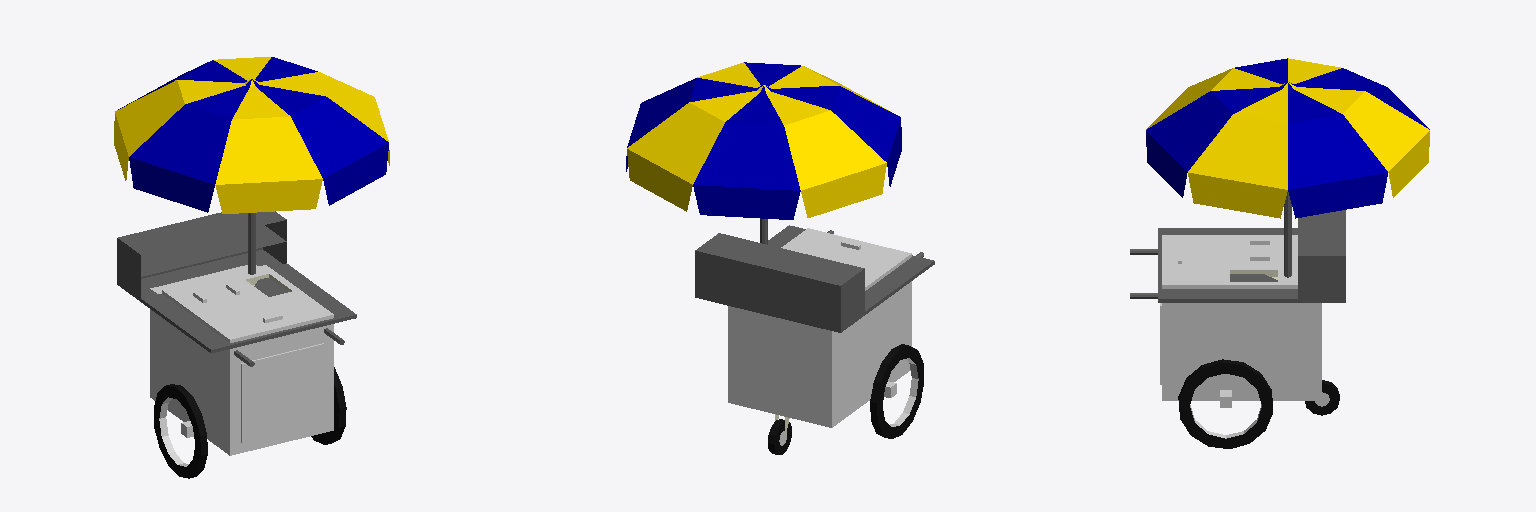
File: Kiosk_Food_Cart.obj
3 renders of one model, left to right at view 1: azimuth 30°, elevation 25°; view 2: azimuth 150°, elevation 25°; view 3: azimuth 270°, elevation 25°, orthographic.
Visible parts, largest first — view 1: Mesh16 Model, Mesh3 Group4 Group2 Model, Mesh8 wheel1 Model, Mesh15 wheel2 Model; view 2: Mesh3 Group4 Group2 Model, Mesh16 Model, Mesh8 wheel1 Model, Mesh1 Group1 Model; view 3: Mesh3 Group4 Group2 Model, Mesh16 Model, Mesh15 wheel2 Model, Mesh1 Group1 Model, Mesh2 Group3 Group2 Model.
Boxes of the visible parts, box(x1,y1,x2,y2) form: Mesh16 Model: box(117, 211, 356, 455); Mesh3 Group4 Group2 Model: box(114, 57, 389, 213); Mesh8 wheel1 Model: box(154, 384, 207, 478); Mesh15 wheel2 Model: box(311, 367, 346, 444); Mesh3 Group4 Group2 Model: box(626, 62, 901, 219); Mesh16 Model: box(695, 225, 934, 427); Mesh8 wheel1 Model: box(870, 344, 923, 438); Mesh1 Group1 Model: box(768, 419, 791, 454); Mesh3 Group4 Group2 Model: box(1146, 58, 1429, 218); Mesh16 Model: box(1158, 210, 1345, 400); Mesh15 wheel2 Model: box(1178, 359, 1272, 448); Mesh1 Group1 Model: box(1305, 380, 1339, 415); Mesh2 Group3 Group2 Model: box(1284, 192, 1291, 277).
Size of the model in its own units: 71 by 96.01 by 75.